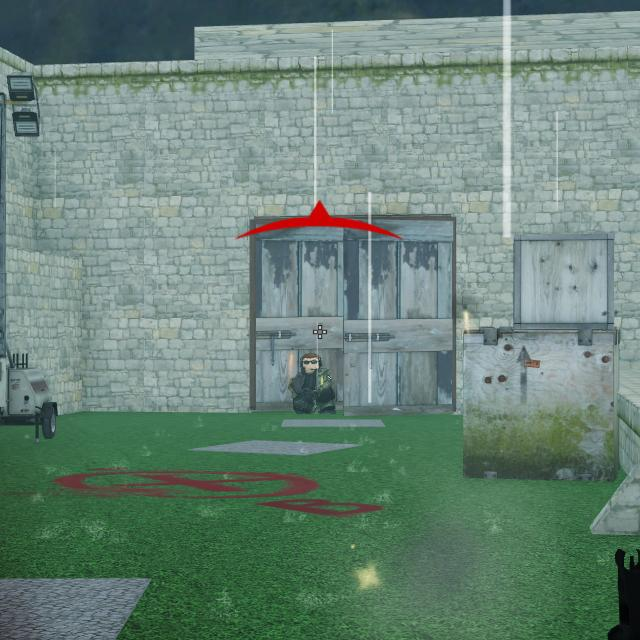Head: (300, 354, 320, 374)
Player: (289, 352, 338, 415)
